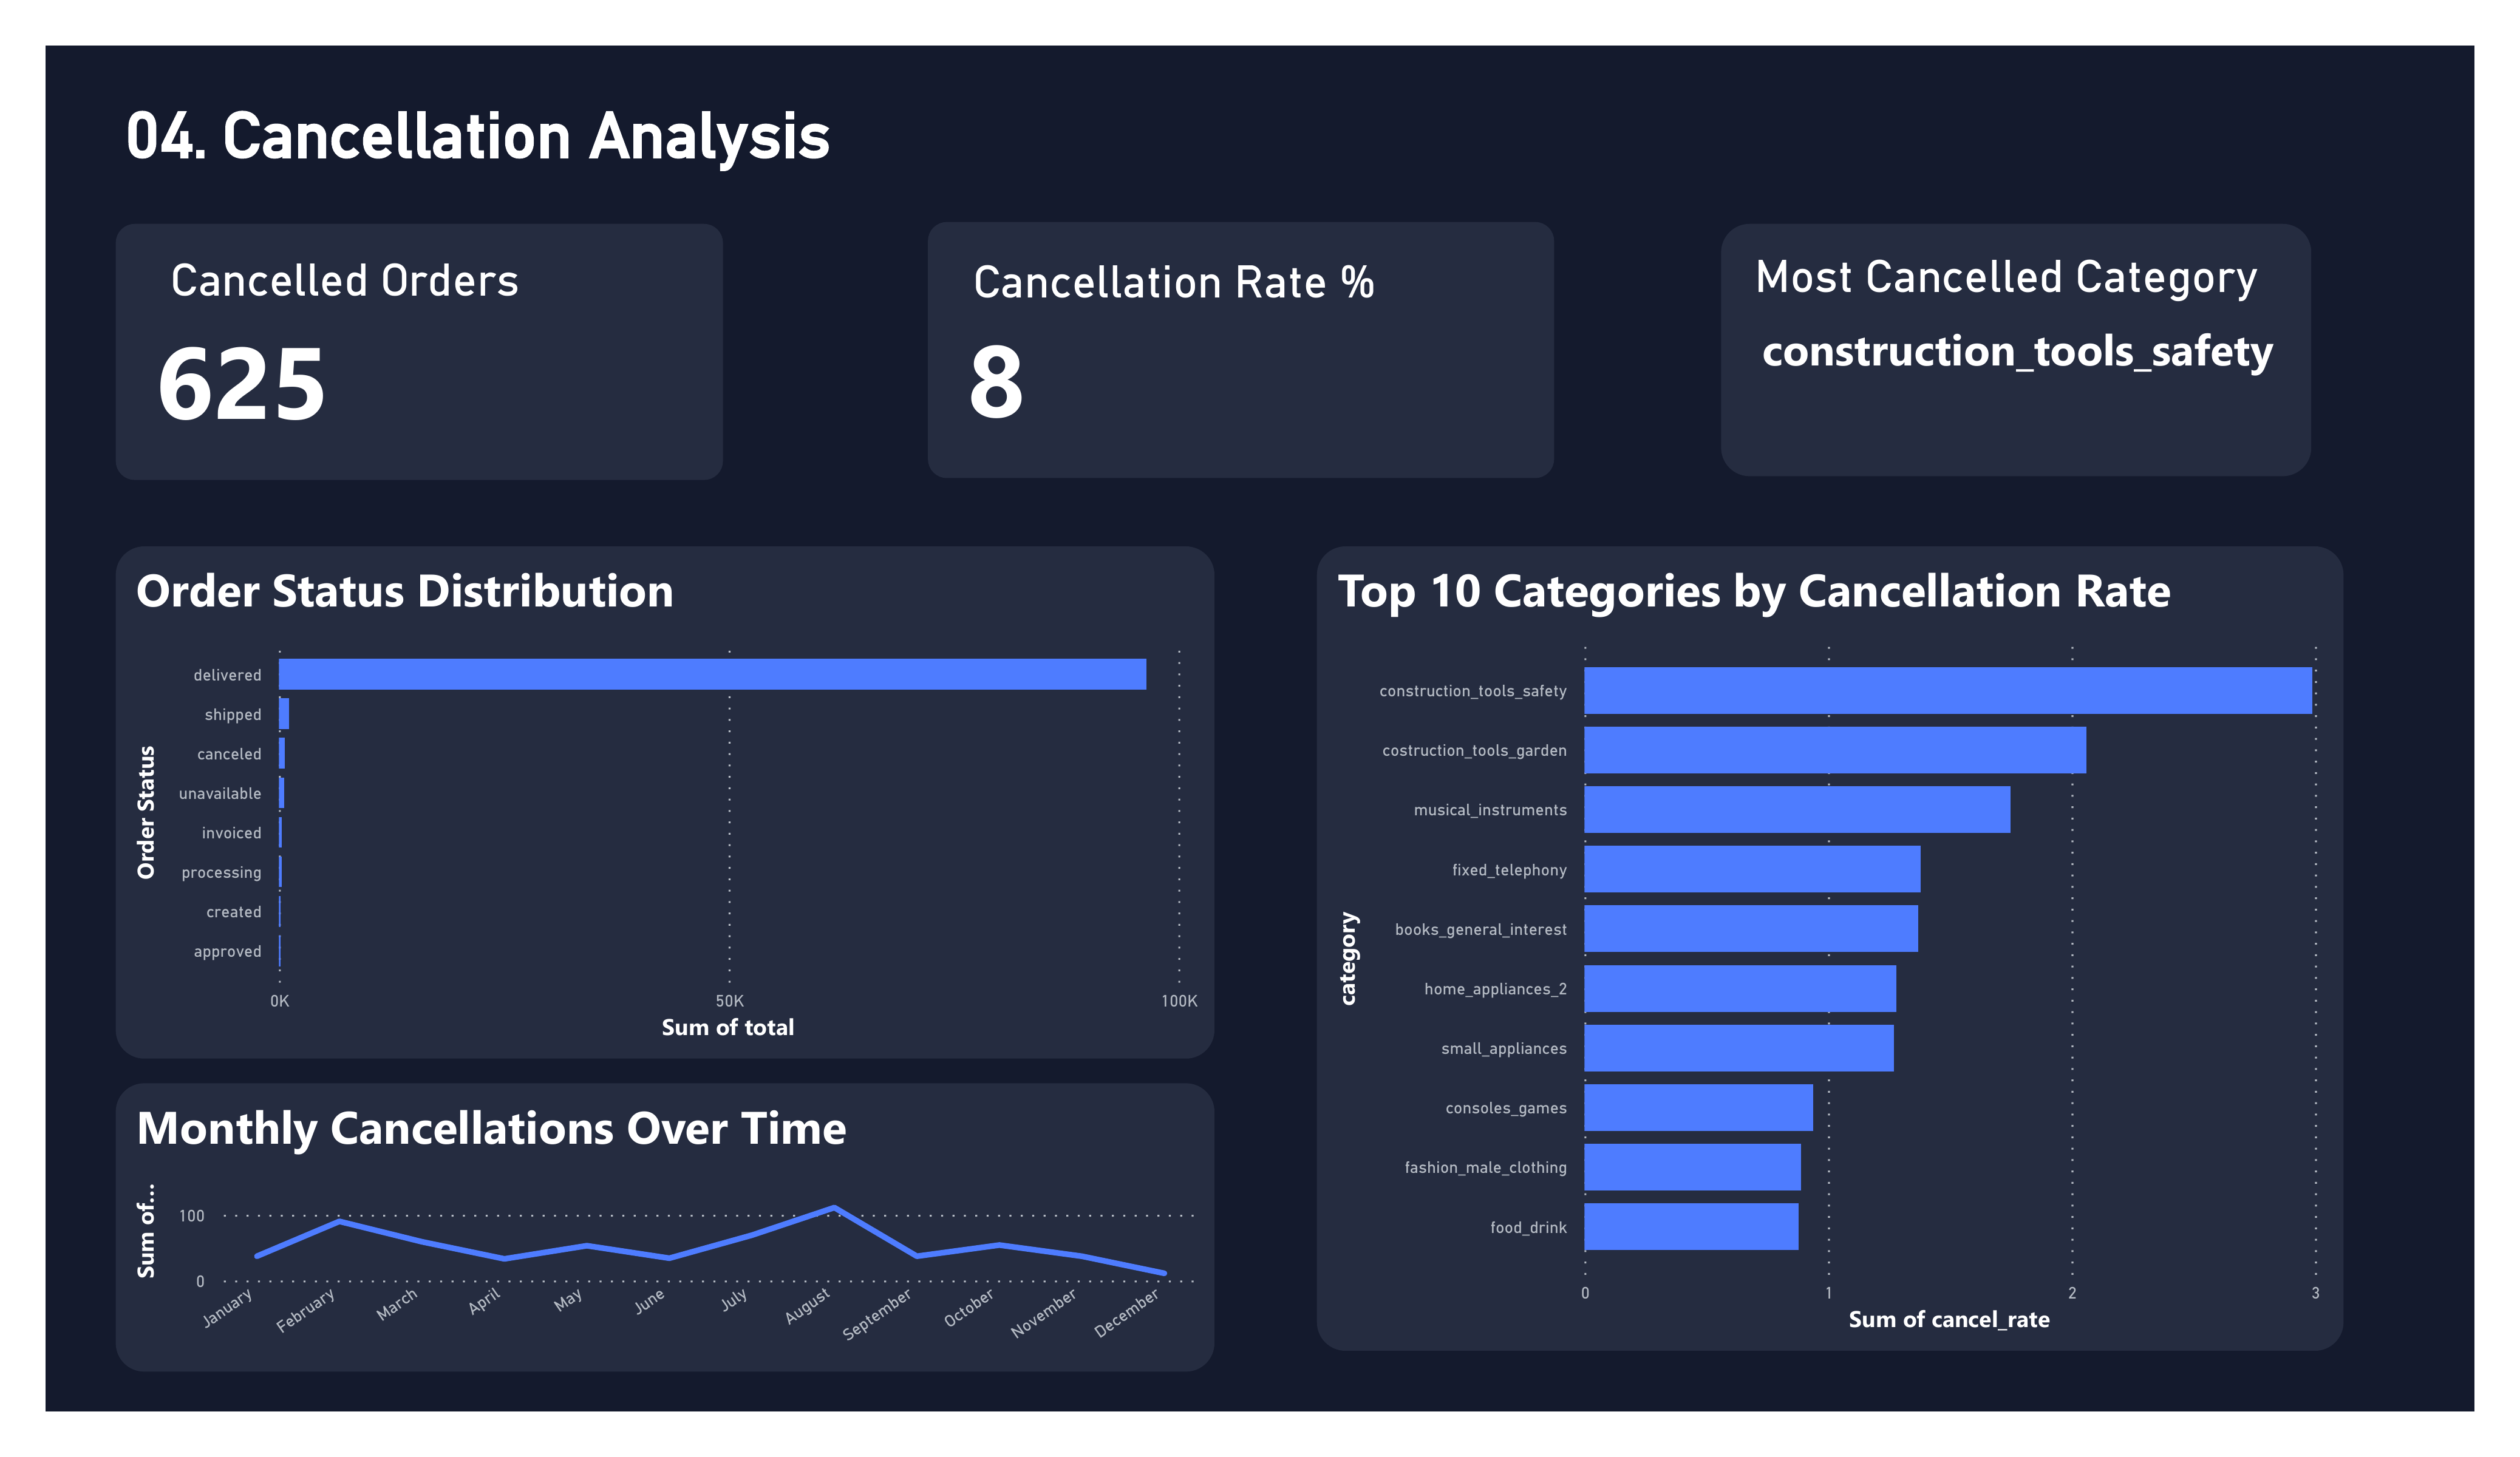

What the dashboard file says about the page in this screenshot:
{"tool":"powerbi","page":{"name":"04. Cancellation Analysis","canvas":[1280,720],"ordinal":3},"visuals":[{"type":"cardVisual","fields":{"Data":["CountNonNull(public orders_clean.order_id)"]},"box":[37.1,94.3,320.2,134.8],"z":0,"group":"g1"},{"type":"clusteredBarChart","title":"Order Status Distribution","fields":{"Y":["Sum(order_status_dist.total)"],"Category":["order_status_dist.order_status"]},"box":[37.5,263.6,578.7,270.6],"z":0},{"type":"textbox","box":[37.5,23.4,411.2,50.4],"z":1000},{"type":"cardVisual","fields":{"Data":["CountNonNull(order_status_dist.percentage)"]},"box":[465.1,92.5,330.2,135.3],"z":1000,"group":"g2"},{"type":"group","id":"g1","title":"Group 1","box":[37.1,94.3,320,134.3],"z":2000},{"type":"group","id":"g2","title":"Group 2","box":[465.1,92.5,330.2,135.3],"z":3000},{"type":"clusteredBarChart","title":"Top 10 Categories by Cancellation Rate","fields":{"Y":["Sum(cancel_by_category.cancel_rate)"],"Category":["cancel_by_category.category"]},"box":[670.1,263.6,541.2,424.1],"z":4000},{"type":"card","fields":{"Values":["Min(most_cancelled_by_category.category)"]},"box":[883.3,93.7,310.4,133.6],"z":5000},{"type":"group","id":"g3","title":"Group 2","box":[896.2,103.1,287,38.7],"z":6000},{"type":"textbox","box":[896.2,103.1,287,38.7],"z":6000,"group":"g3"},{"type":"textbox","box":[483.7,105.9,248.4,38.7],"z":6000,"group":"g2"},{"type":"textbox","box":[61.4,104.9,237.3,37],"z":7000,"group":"g1"},{"type":"lineChart","title":"Monthly Cancellations Over Time","fields":{"Category":["monthly_cancellations.month.Variation.Date Hierarchy.Month"],"Y":["Sum(monthly_cancellations.cancelled_orders)"]},"box":[37.5,547.1,578.7,152.3],"z":7000}]}

Visuals, with their boxes on the page's 1280x720 design canvas (x1, y1, x2, y2). These are canvas units, not pixel positions in the 2520x1457 screenshot, which may show the page scaled, cropped or inside an application window:
cardVisual - CountNonNull(public orders_clean.order_id): left=37, top=94, right=357, bottom=229
"Order Status Distribution" clusteredBarChart: left=38, top=264, right=616, bottom=534
textbox: left=38, top=23, right=449, bottom=74
cardVisual - CountNonNull(order_status_dist.percentage): left=465, top=92, right=795, bottom=228
"Group 1" group: left=37, top=94, right=357, bottom=229
"Group 2" group: left=465, top=92, right=795, bottom=228
"Top 10 Categories by Cancellation Rate" clusteredBarChart: left=670, top=264, right=1211, bottom=688
card - Min(most_cancelled_by_category.category): left=883, top=94, right=1194, bottom=227
"Group 2" group: left=896, top=103, right=1183, bottom=142
textbox: left=896, top=103, right=1183, bottom=142
textbox: left=484, top=106, right=732, bottom=145
textbox: left=61, top=105, right=299, bottom=142
"Monthly Cancellations Over Time" lineChart: left=38, top=547, right=616, bottom=699
